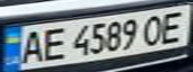4: (69, 21, 93, 57)
5: (87, 19, 109, 55)
8: (103, 18, 127, 52)
9: (118, 16, 142, 51)
A: (15, 27, 48, 65)
E: (154, 8, 193, 44), (36, 25, 69, 62)
O: (139, 11, 172, 47)
